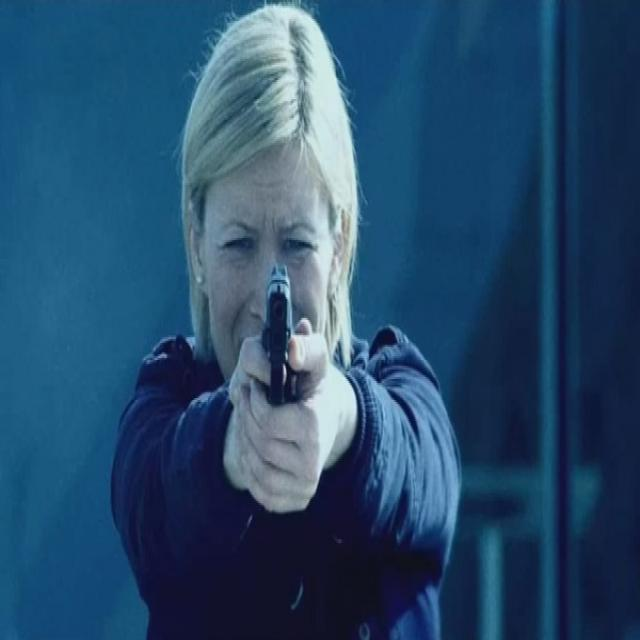weapons: (244, 254, 321, 438)
